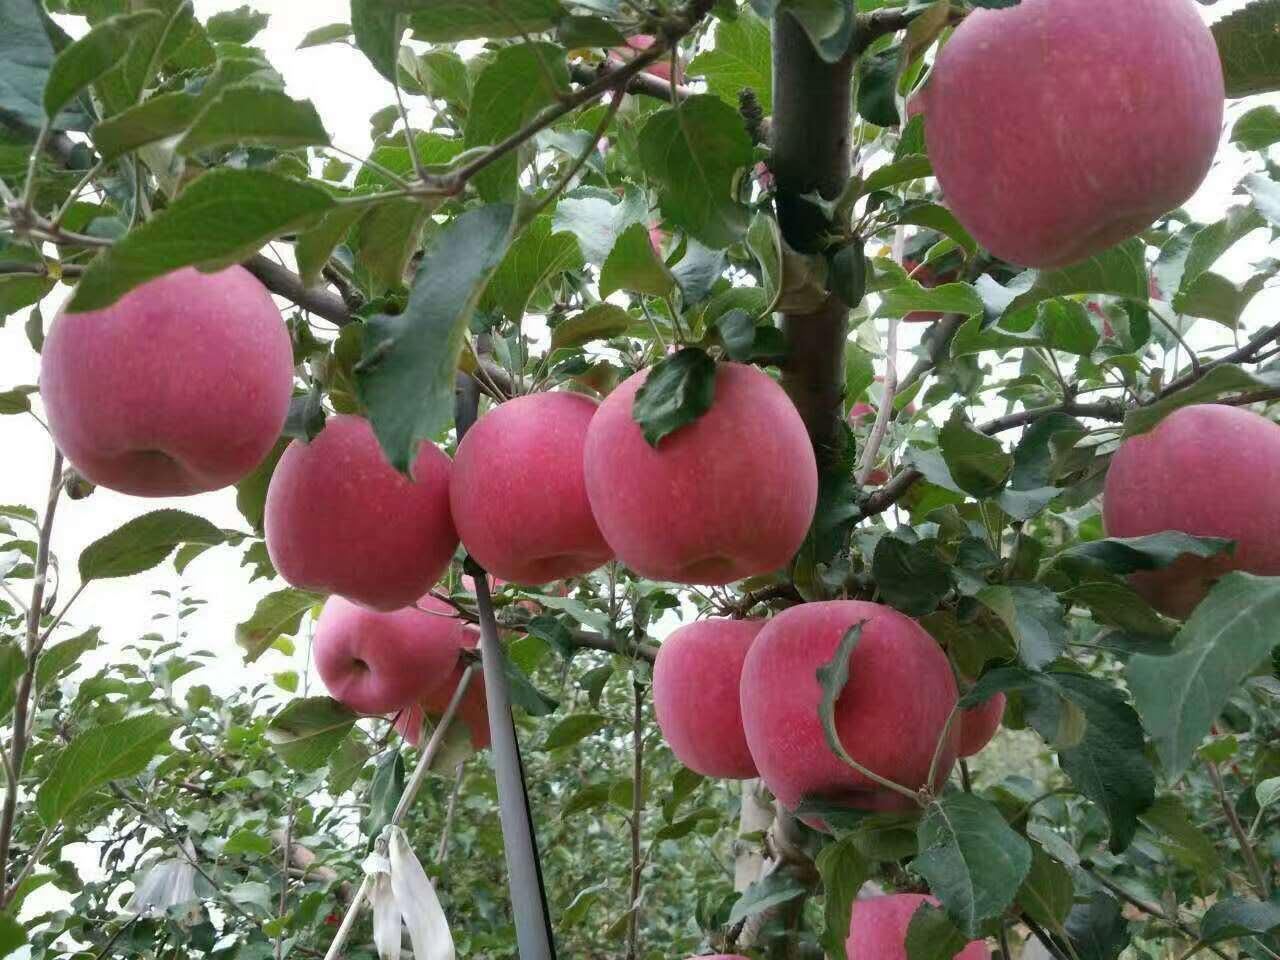apple: (918, 1, 1220, 274), (42, 256, 292, 503), (583, 351, 819, 587), (737, 597, 963, 820), (264, 413, 460, 610), (1101, 406, 1277, 610), (447, 391, 609, 588), (307, 589, 458, 716)
